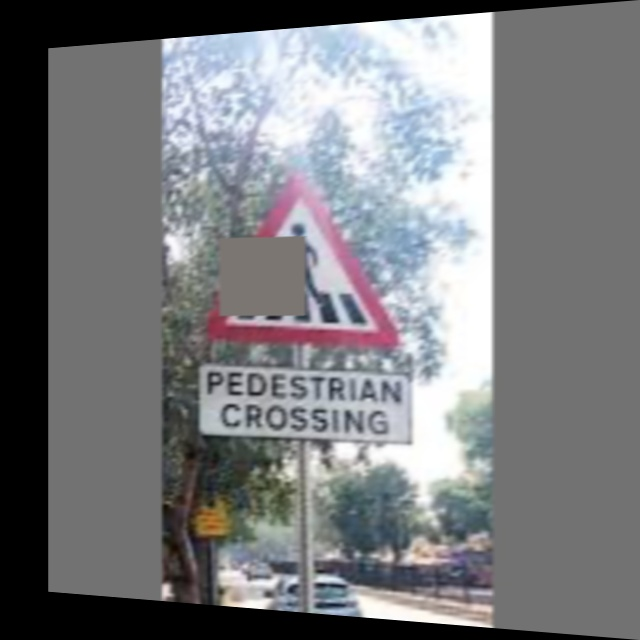Pedestrian_Crossing: (210, 163, 408, 343)
